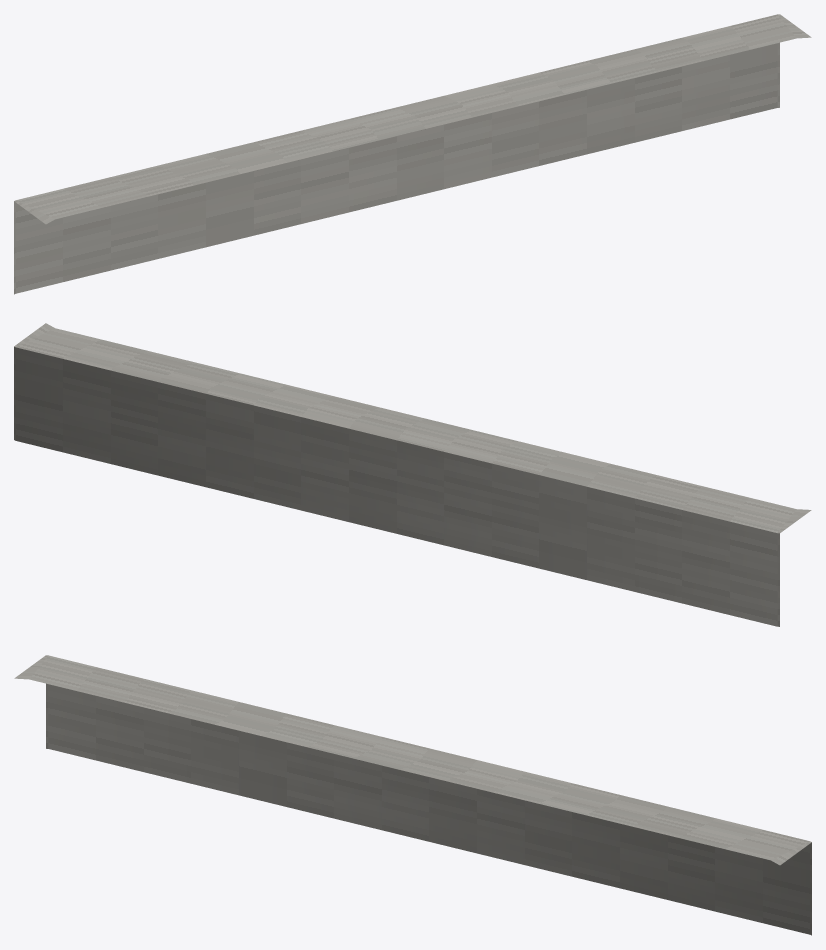
The model's file is tank_large_footing_2_0.obj.
3 views of the same model, one above another, from view 1: azimuth 30°, elevation 25°; view 2: azimuth 150°, elevation 25°; view 3: azimuth 330°, elevation 25° (orthographic).
Parts seen in each view (by area): view 1: tank_large_footing_2_0; view 2: tank_large_footing_2_0; view 3: tank_large_footing_2_0.
Boxes of the visible parts, left/top/right/bottom form: tank_large_footing_2_0: left=14, top=14, right=811, bottom=294; tank_large_footing_2_0: left=14, top=323, right=811, bottom=626; tank_large_footing_2_0: left=14, top=655, right=811, bottom=935.
Size of the model in its own units: 3 by 0.35 by 0.2199.
